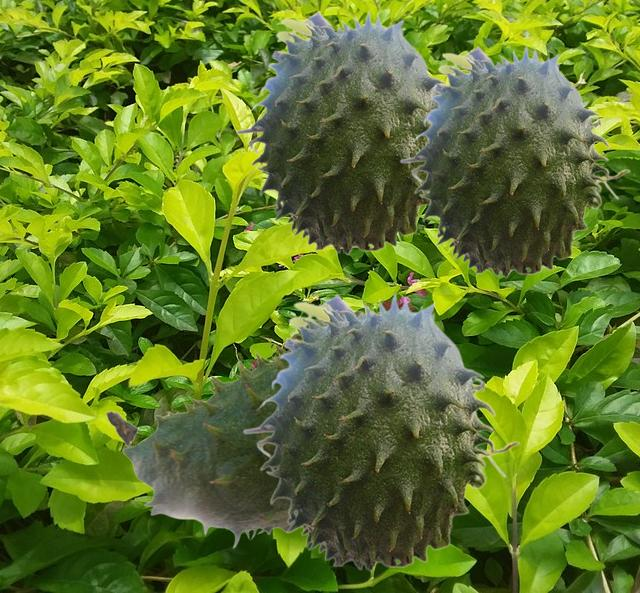guyabano: (242, 290, 520, 572), (105, 310, 361, 548), (399, 43, 630, 278), (235, 8, 447, 255)
